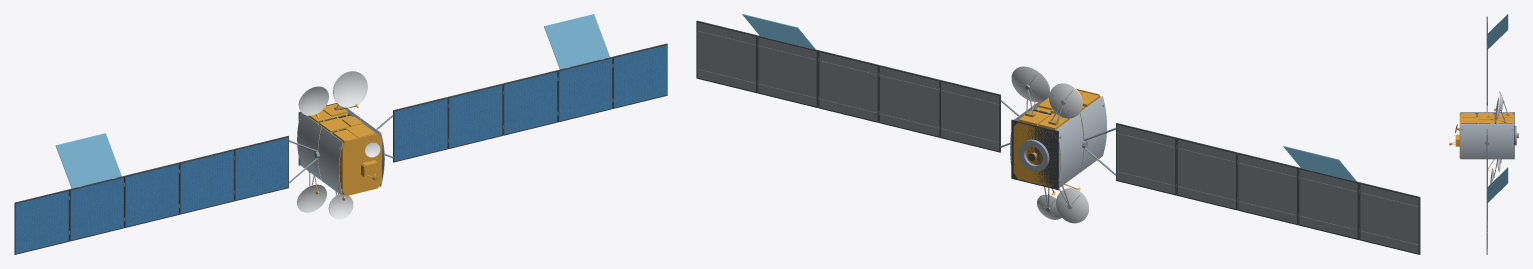
Rendered from astra-3b.glb.
3 renders of one model, left to right at view 1: azimuth 30°, elevation 25°; view 2: azimuth 150°, elevation 25°; view 3: azimuth 270°, elevation 25°, orthographic. The views are drawn at different scales.
Parts seen in each view (by area): view 1: Solar cell panel (×10), Outboard array flap (×2), Solar panel frame (×10), Main reflector (×4), Curved silver side panel (×2), Payload module blanket, Earth-facing deck; view 2: Rear array substrate (×10), Solar panel frame (×10), Main reflector (×4), Curved silver side panel (×2), Outboard array flap (×2), Aft deck, Service module blanket, Launch adapter ring; view 3: Curved silver side panel (×2), Outboard array flap (×2), Blanket panel (×6), Main reflector (×2), Payload module blanket, Earth-facing deck, Solar panel frame, Deck equipment housing, Launch adapter ring.
Boxes of the visible parts, left/top/right/bottom form: Solar cell panel (×10): left=16, top=45, right=666, bottom=253; Outboard array flap (×2): left=55, top=14, right=609, bottom=188; Solar panel frame (×10): left=15, top=43, right=667, bottom=254; Main reflector (×4): left=297, top=71, right=367, bottom=219; Curved silver side panel (×2): left=297, top=112, right=342, bottom=196; Payload module blanket: left=318, top=115, right=381, bottom=193; Earth-facing deck: left=342, top=133, right=381, bottom=195; Rear array substrate (×10): left=697, top=22, right=1418, bottom=253; Solar panel frame (×10): left=696, top=20, right=1419, bottom=254; Main reflector (×4): left=1011, top=66, right=1088, bottom=223; Curved silver side panel (×2): left=1056, top=96, right=1106, bottom=189; Outboard array flap (×2): left=742, top=14, right=1356, bottom=181; Aft deck: left=1011, top=119, right=1058, bottom=189; Service module blanket: left=1013, top=111, right=1060, bottom=186; Launch adapter ring: left=1018, top=139, right=1049, bottom=171; Curved silver side panel (×2): left=1460, top=124, right=1513, bottom=159; Outboard array flap (×2): left=1487, top=14, right=1508, bottom=203; Blanket panel (×6): left=1461, top=113, right=1512, bottom=124; Main reflector (×2): left=1495, top=91, right=1502, bottom=120; Payload module blanket: left=1460, top=114, right=1494, bottom=135; Earth-facing deck: left=1459, top=113, right=1460, bottom=157; Solar panel frame: left=1486, top=204, right=1487, bottom=254; Deck equipment housing: left=1455, top=134, right=1459, bottom=146; Launch adapter ring: left=1514, top=126, right=1516, bottom=145.
Size of the model in its own units: 39.8 by 8.11 by 5.66.
10 materials, 1 textured.
